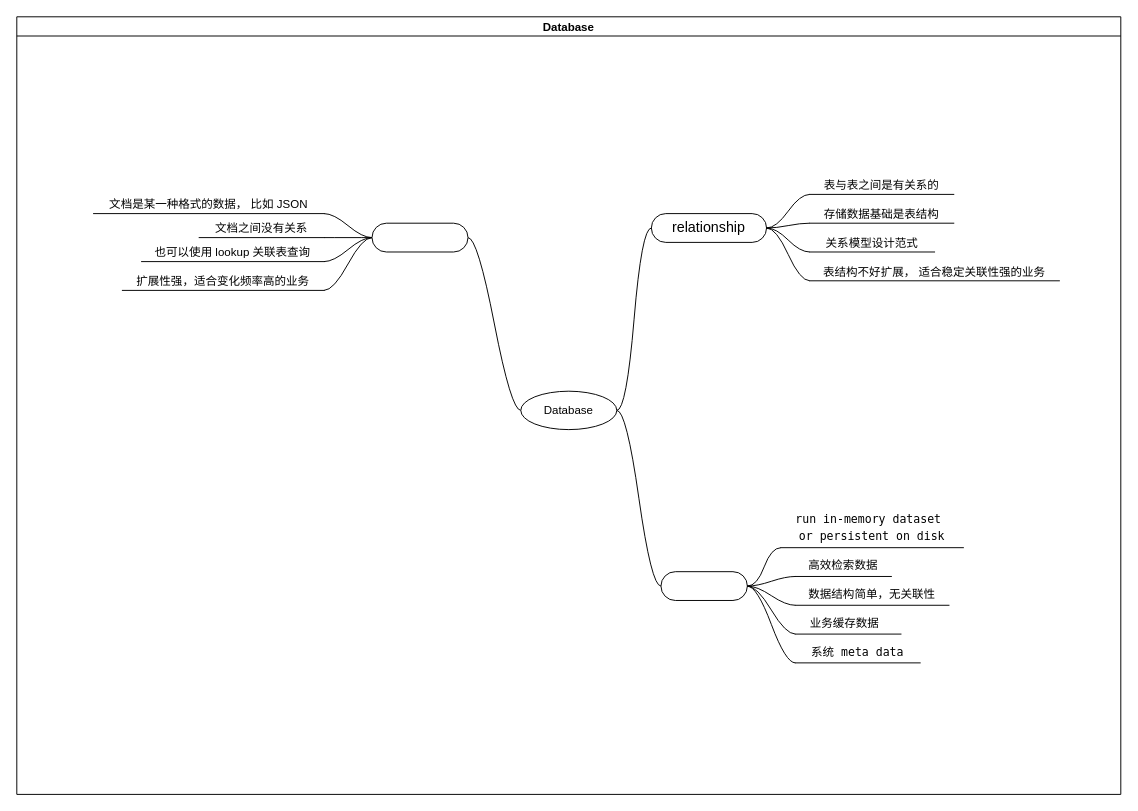
This 1138x811 diagram has some shape labels left out. Each missing label, with the box of its shape:
Document: (371, 222, 468, 252)
Key-Value: (660, 571, 747, 600)
